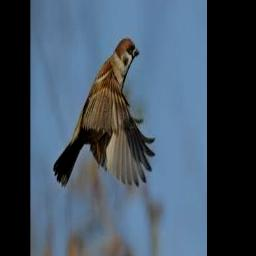Sparrow: (54, 38, 155, 189)
